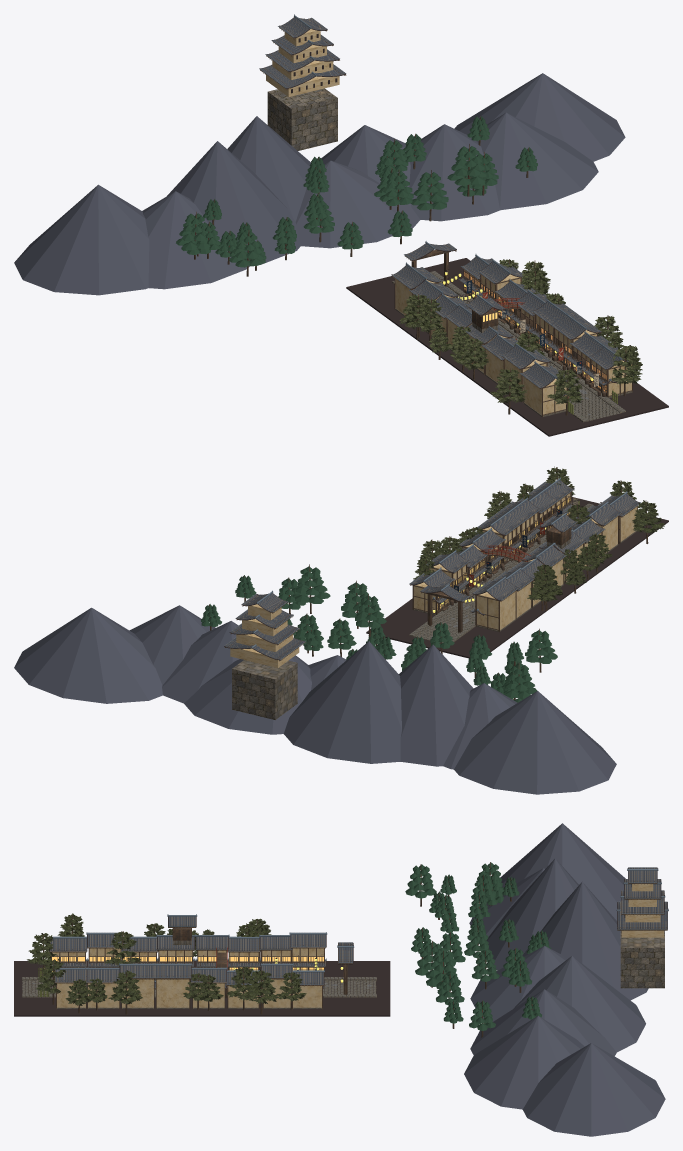
The model's file is lantern-street.glb.
3 renders of one model, top to bottom at view 1: azimuth 30°, elevation 25°; view 2: azimuth 150°, elevation 25°; view 3: azimuth 270°, elevation 25°, orthographic. The views are drawn at different scales.
Visible parts, largest first — view 1: Mountain silhouettes · Distant mountain, Distant forest · Pine needles, Ground · Old iron and dark timber, Courtyard pines · Pine bough cards | imagegen, Castle foundation · Rain-dark basalt | imagegen, Distant castle · Kawara ceramic | imagegen, Distant castle · Ochre plaster | imagegen, Entrance pine · Pine bough cards | imagegen, Road · Rain-dark basalt | imagegen, House_W_00 · Ochre plaster | imagegen, Distant forest · Cedar | imagegen, House_E_02 · Kawara ceramic | imagegen (+2 smaller); view 2: Mountain silhouettes · Distant mountain, Distant forest · Pine needles, Courtyard pines · Pine bough cards | imagegen, Ground · Old iron and dark timber, Castle foundation · Rain-dark basalt | imagegen, Distant castle · Ochre plaster | imagegen, Distant castle · Kawara ceramic | imagegen, House_W_07 · Ochre plaster | imagegen, Road · Rain-dark basalt | imagegen, Pavements · Rain-dark basalt | imagegen, Entrance pine · Pine bough cards | imagegen, House_E_03 · Kawara ceramic | imagegen (+4 smaller); view 3: Mountain silhouettes · Distant mountain, Distant forest · Pine needles, Ground · Old iron and dark timber, Courtyard pines · Pine bough cards | imagegen, Castle foundation · Rain-dark basalt | imagegen, Distant castle · Kawara ceramic | imagegen, Entrance pine · Pine bough cards | imagegen, Distant castle · Ochre plaster | imagegen, Road · Rain-dark basalt | imagegen, House_E_03 · Ochre plaster | imagegen, Street pine · Pine bough cards | imagegen, House_E_02 · Ochre plaster | imagegen (+8 smaller).
Boxes of the visible parts, x1,y1,x2,y2 form: Mountain silhouettes · Distant mountain: (14,73,625,295); Distant forest · Pine needles: (176,116,537,267); Ground · Old iron and dark timber: (346,258,668,436); Courtyard pines · Pine bough cards | imagegen: (399,259,642,403); Castle foundation · Rain-dark basalt | imagegen: (267,88,337,150); Distant castle · Kawara ceramic | imagegen: (260,17,345,87); Distant castle · Ochre plaster | imagegen: (266,29,339,96); Entrance pine · Pine bough cards | imagegen: (547,347,642,404); Road · Rain-dark basalt | imagegen: (441,283,619,421); House_W_00 · Ochre plaster | imagegen: (524,378,566,414); Distant forest · Cedar | imagegen: (194,116,528,276); House_E_02 · Kawara ceramic | imagegen: (550,316,600,359); Mountain silhouettes · Distant mountain: (14,605,616,794); Distant forest · Pine needles: (201,566,557,702); Courtyard pines · Pine bough cards | imagegen: (413,483,664,601); Ground · Old iron and dark timber: (366,497,668,658); Castle foundation · Rain-dark basalt | imagegen: (232,660,297,719); Distant castle · Ochre plaster | imagegen: (230,604,299,667); Distant castle · Kawara ceramic | imagegen: (224,593,304,659); House_W_07 · Ochre plaster | imagegen: (477,591,515,629); Road · Rain-dark basalt | imagegen: (415,540,546,642); Pavements · Rain-dark basalt | imagegen: (409,503,592,641); Entrance pine · Pine bough cards | imagegen: (546,466,639,507); House_E_03 · Kawara ceramic | imagegen: (477,513,522,551); Mountain silhouettes · Distant mountain: (464,823,665,1136); Distant forest · Pine needles: (405,862,551,1030); Ground · Old iron and dark timber: (14,961,390,1016); Courtyard pines · Pine bough cards | imagegen: (57,913,306,1005); Castle foundation · Rain-dark basalt | imagegen: (620,930,664,988); Distant castle · Kawara ceramic | imagegen: (618,867,667,928); Entrance pine · Pine bough cards | imagegen: (27,933,65,993); Distant castle · Ochre plaster | imagegen: (621,884,663,937); Road · Rain-dark basalt | imagegen: (22,980,376,995); House_E_03 · Ochre plaster | imagegen: (156,979,189,1007); Street pine · Pine bough cards | imagegen: (104,931,140,966); House_E_02 · Ochre plaster | imagegen: (122,979,153,1007).
Size of the model in its own units: 132 by 30.93 by 132.
18 materials, 7 textured.
